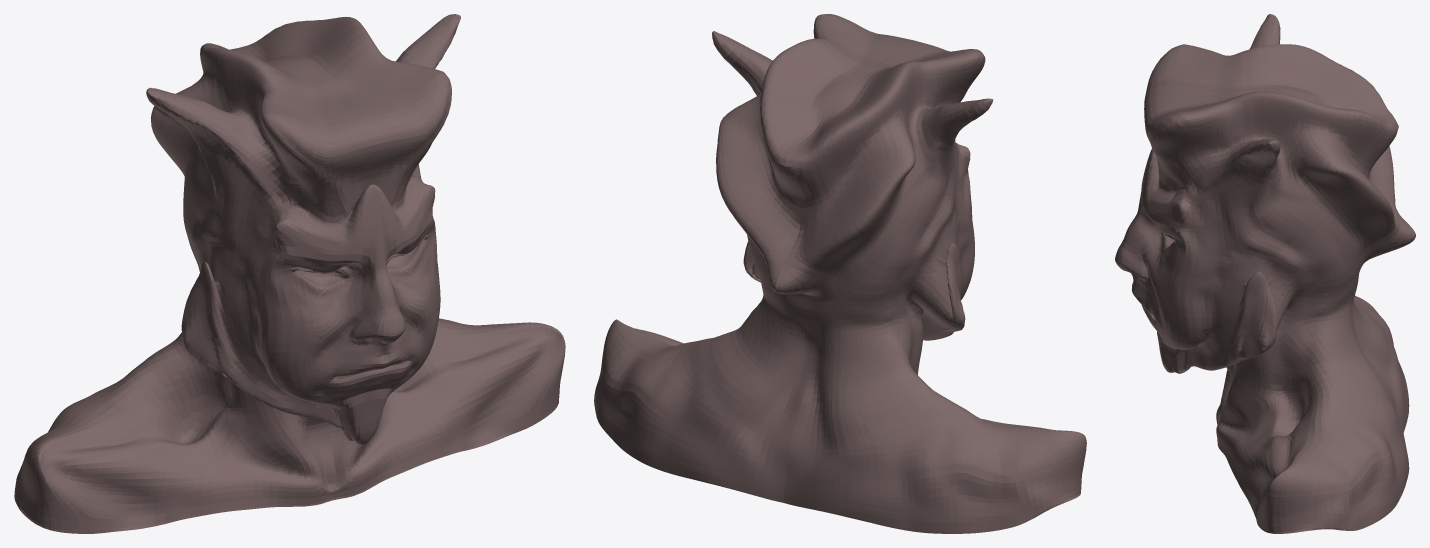
The model's file is statue_barongan.fbx.
3 renders of one model, left to right at view 1: azimuth 30°, elevation 25°; view 2: azimuth 150°, elevation 25°; view 3: azimuth 270°, elevation 25°, orthographic. The views are drawn at different scales.
Visible parts, largest first — view 1: Barongan:Barongan; view 2: Barongan:Barongan; view 3: Barongan:Barongan.
Part boxes in pixels (left/top/right/bottom): Barongan:Barongan: left=14, top=14, right=565, bottom=533; Barongan:Barongan: left=594, top=14, right=1086, bottom=533; Barongan:Barongan: left=1115, top=14, right=1415, bottom=533.
Size of the model in its own units: 2.04 by 1.64 by 1.19.
